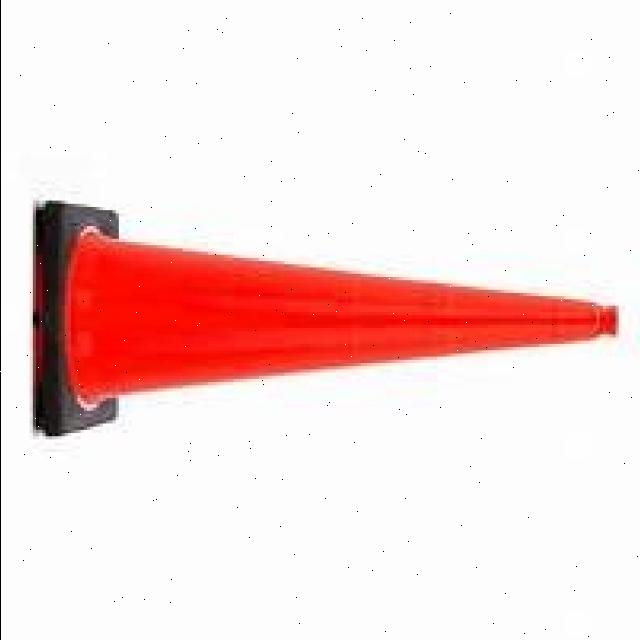traffic cone: (18, 189, 626, 447)
